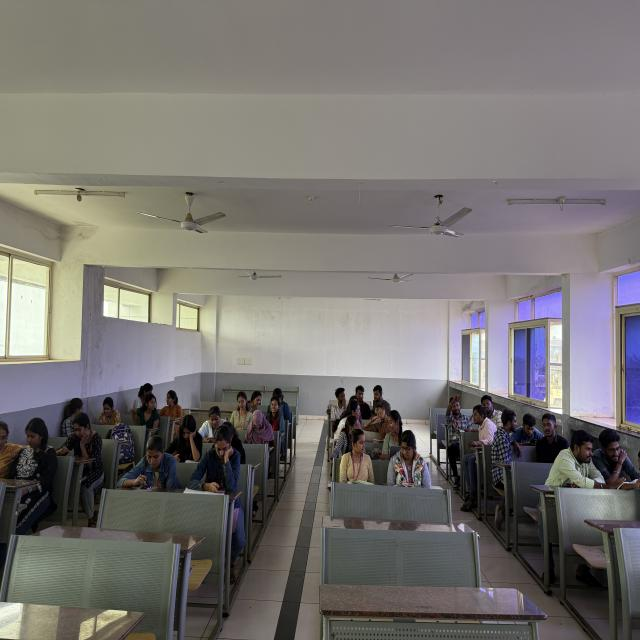Hand Rising: (447, 389, 472, 436)
Using Phone: (119, 433, 186, 498), (199, 428, 242, 498), (56, 412, 108, 466), (517, 412, 544, 446), (200, 406, 224, 444)
